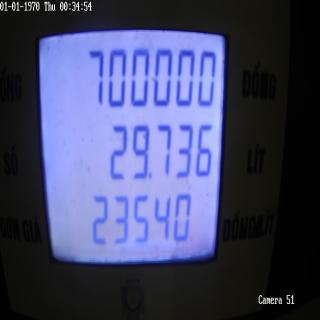screen: (32, 5, 232, 293)
